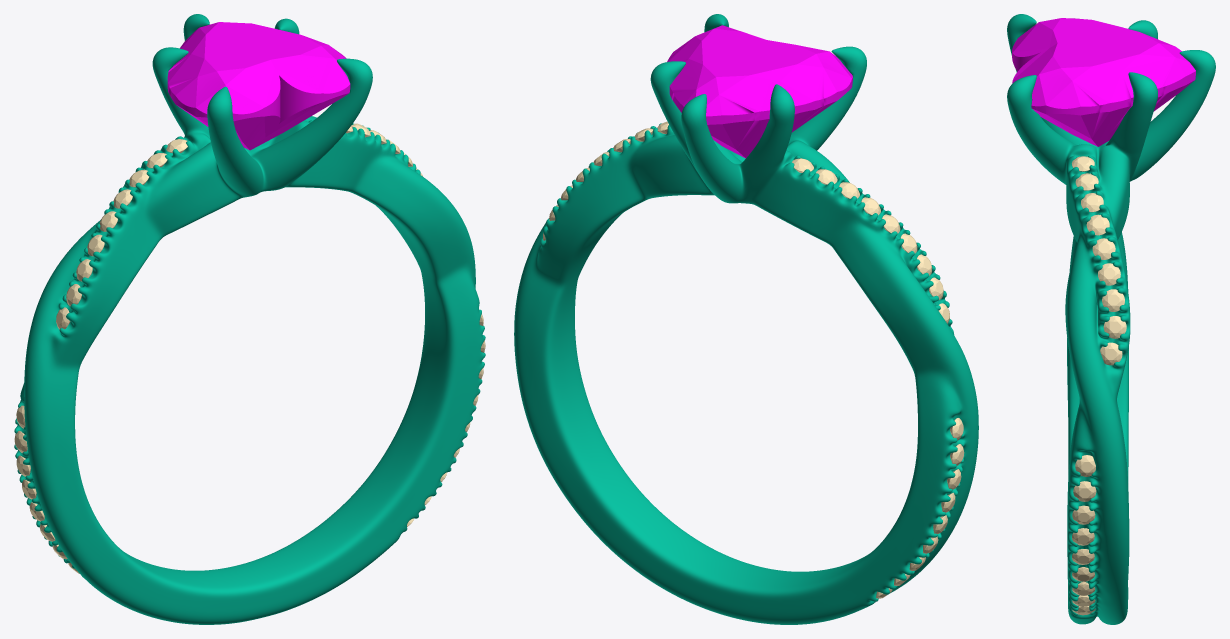
File: BE1D54_HT_200ct_RENDER.glb
3 views of the same model, side by side, from view 1: azimuth 30°, elevation 25°; view 2: azimuth 150°, elevation 25°; view 3: azimuth 270°, elevation 25° (orthographic).
Parts seen in each view (by area): view 1: Metal 01, CS_Diamond_Heart; view 2: Metal 01, CS_Diamond_Heart; view 3: Metal 01, CS_Diamond_Heart, Diamond_Round_Gem_SH.006, Diamond_Round_Gem_SH.005, Diamond_Round_Gem_SH.004, Diamond_Round_Gem_SH.007, Diamond_Round_Gem_SH.003, Diamond_Round_Gem_SH.015, Diamond_Round_Gem_SH.016, Diamond_Round_Gem_SH.002, Diamond_Round_Gem_SH.014, Diamond_Round_Gem_SH.001 (+1 smaller).
Part boxes in pixels (left/top/right/bottom): Metal 01: left=14, top=14, right=485, bottom=624; CS_Diamond_Heart: left=167, top=22, right=350, bottom=150; Metal 01: left=514, top=14, right=978, bottom=624; CS_Diamond_Heart: left=667, top=25, right=852, bottom=158; Metal 01: left=1007, top=14, right=1215, bottom=624; CS_Diamond_Heart: left=1012, top=18, right=1195, bottom=146; Diamond_Round_Gem_SH.006: left=1103, top=316, right=1126, bottom=338; Diamond_Round_Gem_SH.005: left=1102, top=289, right=1124, bottom=311; Diamond_Round_Gem_SH.004: left=1098, top=263, right=1120, bottom=285; Diamond_Round_Gem_SH.007: left=1100, top=342, right=1122, bottom=365; Diamond_Round_Gem_SH.003: left=1092, top=238, right=1115, bottom=259; Diamond_Round_Gem_SH.015: left=1073, top=481, right=1096, bottom=501; Diamond_Round_Gem_SH.016: left=1075, top=455, right=1095, bottom=476; Diamond_Round_Gem_SH.002: left=1086, top=214, right=1109, bottom=235; Diamond_Round_Gem_SH.014: left=1072, top=505, right=1095, bottom=524; Diamond_Round_Gem_SH.001: left=1081, top=193, right=1103, bottom=212.
Bounding box in the file's own units: 20.31 × 24.08 × 8.19.
